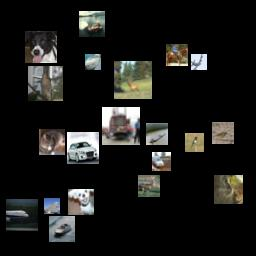airplane: (6, 199, 38, 231), (191, 54, 207, 70)
automobile: (67, 132, 99, 164), (152, 152, 171, 171)
bird: (28, 66, 63, 101), (212, 122, 234, 144), (185, 133, 204, 152)
cat: (39, 129, 65, 155)
deer: (114, 61, 152, 99), (138, 175, 160, 197)
dog: (25, 31, 57, 63), (68, 189, 94, 215)
frog: (214, 175, 243, 204)
ship: (49, 216, 75, 242), (79, 11, 105, 37), (146, 123, 168, 145), (85, 54, 101, 70), (44, 198, 60, 214)
truck: (102, 107, 140, 145)
